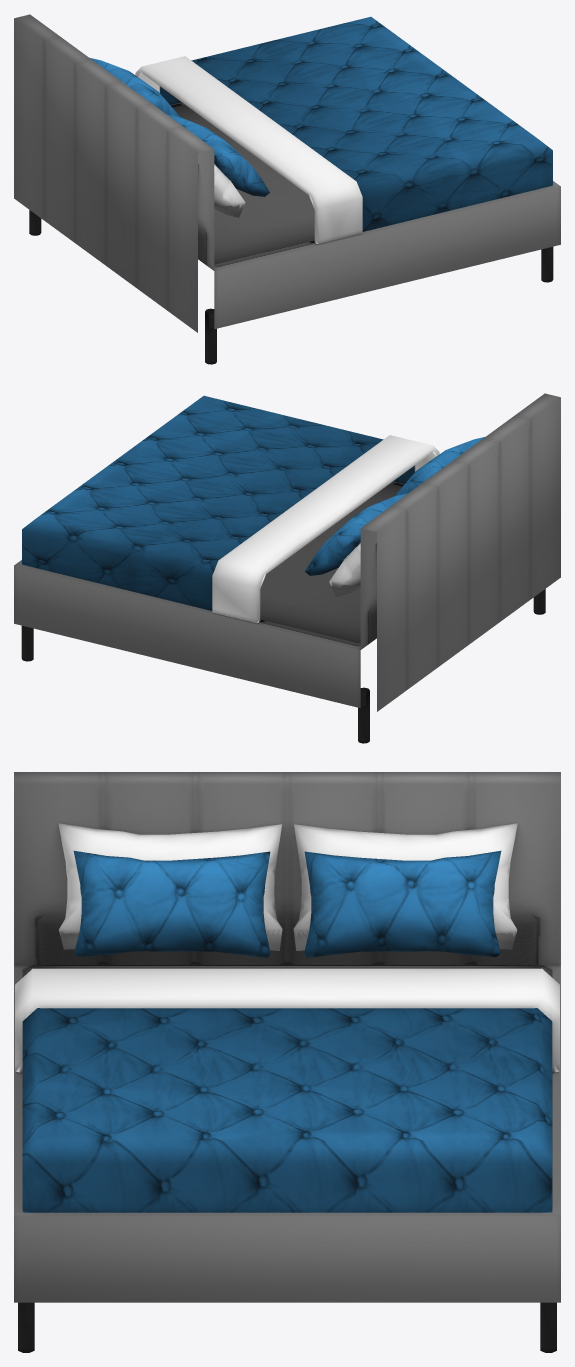
File: beddublle.glb
The picture shows the model from 3 angles, top to bottom: view 1: azimuth 30°, elevation 25°; view 2: azimuth 150°, elevation 25°; view 3: azimuth 270°, elevation 25°; orthographic projection. The views are drawn at different scales.
Parts seen in each view (by area): view 1: Object_10.012; view 2: Object_10.012; view 3: Object_10.012.
Part boxes in pixels (x1=…): Object_10.012: x1=14, y1=14, x2=560, y2=364; Object_10.012: x1=14, y1=393, x2=560, y2=743; Object_10.012: x1=14, y1=772, x2=560, y2=1352.
Bounding box in the file's own units: 1.69 × 0.9617 × 1.48.
1 material, 1 textured.
